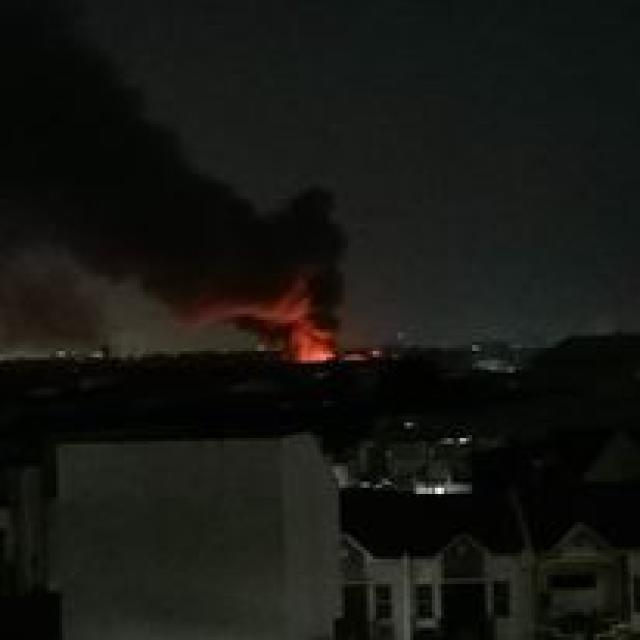Fire: (280, 328, 348, 378)
Smoke: (0, 1, 367, 326)
